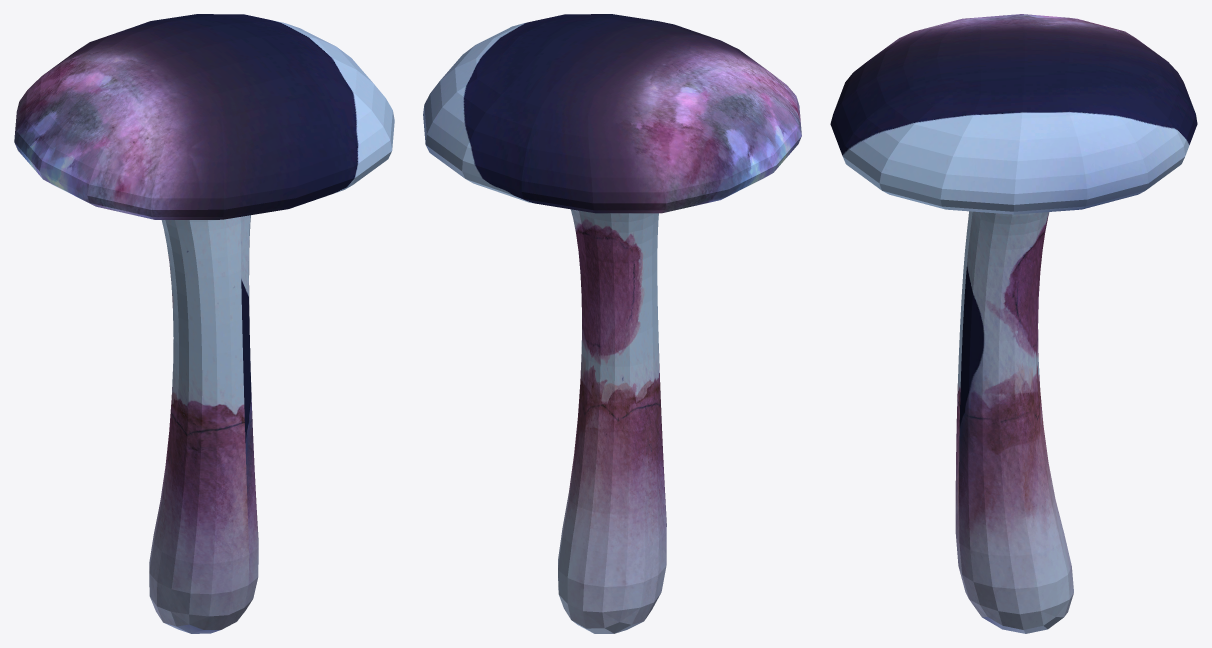
Rendered from mushroom2.gltf.
3 views of the same model, side by side, from view 1: azimuth 30°, elevation 25°; view 2: azimuth 150°, elevation 25°; view 3: azimuth 270°, elevation 25° (orthographic).
Parts seen in each view (by area): view 1: mushroom2; view 2: mushroom2; view 3: mushroom2.
Part boxes in pixels (<box>): mushroom2: <box>14,14,394,633</box>; mushroom2: <box>423,14,801,633</box>; mushroom2: <box>830,14,1197,633</box>.
Bounding box in the file's own units: 4.28 × 7.21 × 4.11.
Materials: 1 (1 with a texture image).
